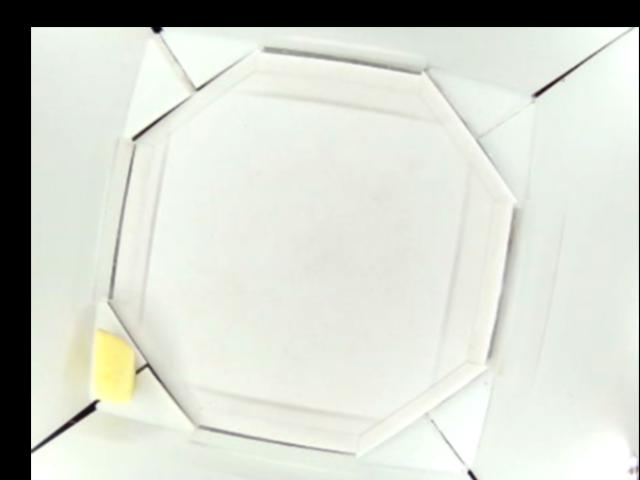Potato: (92, 327, 139, 404)
